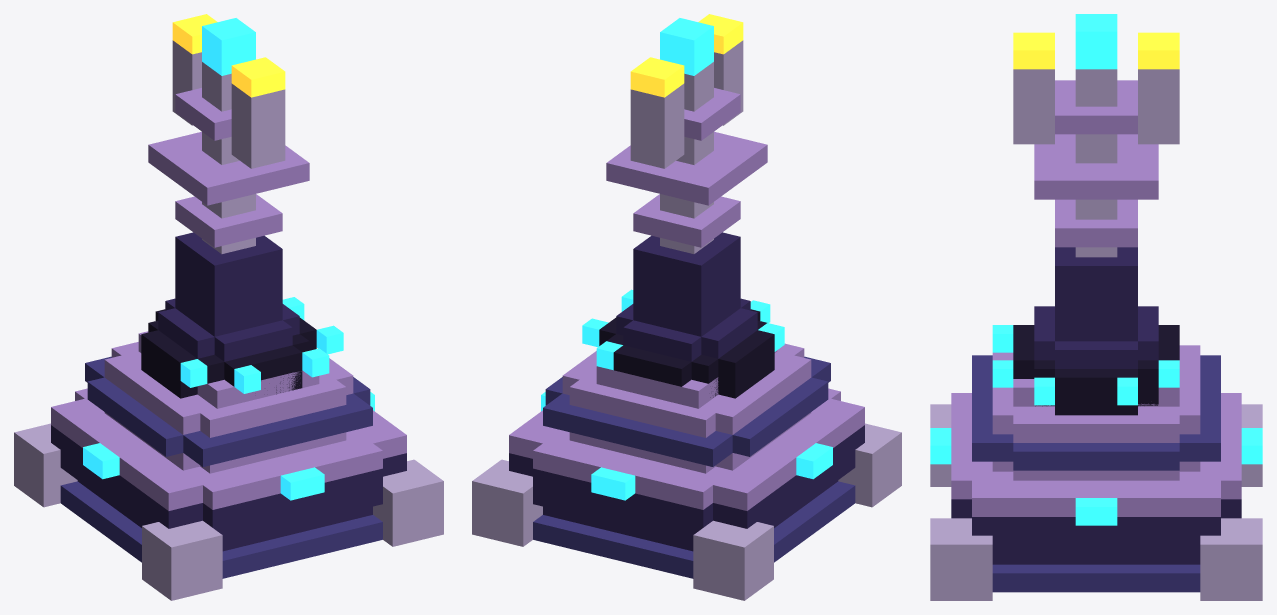
Rendered from relay-beacon.sm.glb.
3 renders of one model, left to right at view 1: azimuth 30°, elevation 25°; view 2: azimuth 150°, elevation 25°; view 3: azimuth 270°, elevation 25°, orthographic. The views are drawn at different scales.
Parts seen in each view (by area): view 1: relay-beacon.sm; view 2: relay-beacon.sm; view 3: relay-beacon.sm.
Part boxes in pixels (left/top/right/bottom): relay-beacon.sm: left=14, top=14, right=443, bottom=600; relay-beacon.sm: left=472, top=14, right=901, bottom=600; relay-beacon.sm: left=930, top=14, right=1262, bottom=600.
Size of the model in its own units: 1 by 1.69 by 1.
